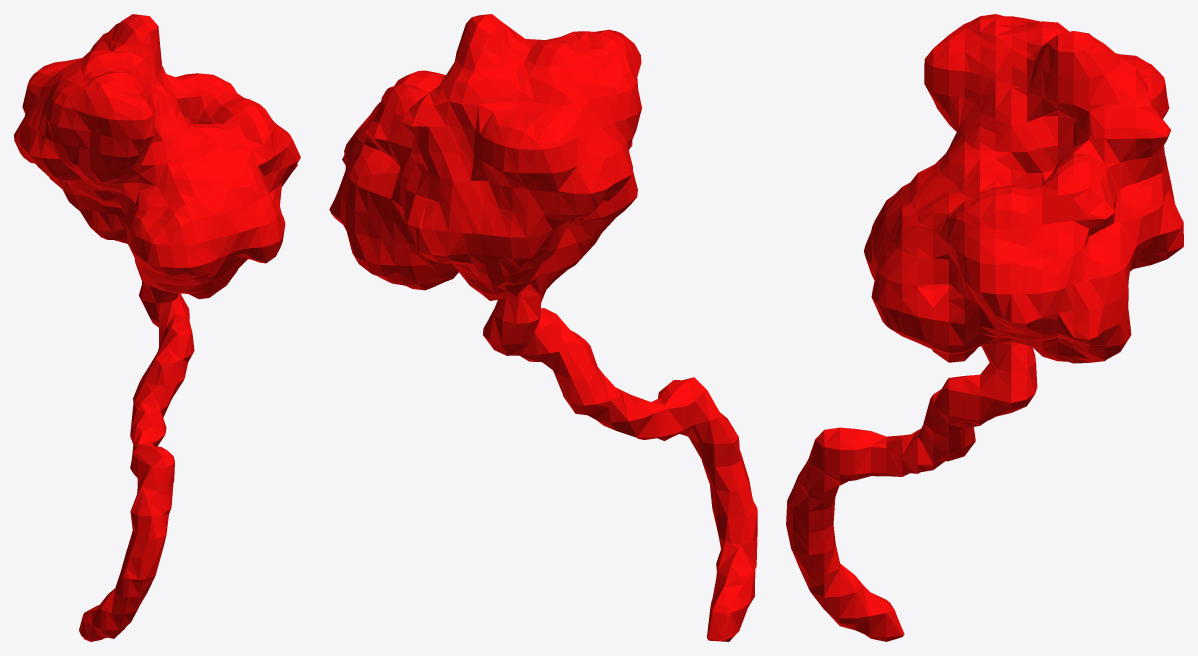
File: cysJ_coarse.dae
The picture shows the model from 3 angles, left to right: view 1: azimuth 30°, elevation 25°; view 2: azimuth 150°, elevation 25°; view 3: azimuth 270°, elevation 25°; orthographic projection. The views are drawn at different scales.
Parts seen in each view (by area): view 1: cysJ; view 2: cysJ; view 3: cysJ.
Part boxes in pixels (<box>): cysJ: <box>14,14,300,641</box>; cysJ: <box>329,14,757,641</box>; cysJ: <box>786,14,1183,641</box>.
Bounding box in the file's own units: 81.31 × 156 × 82.23.
